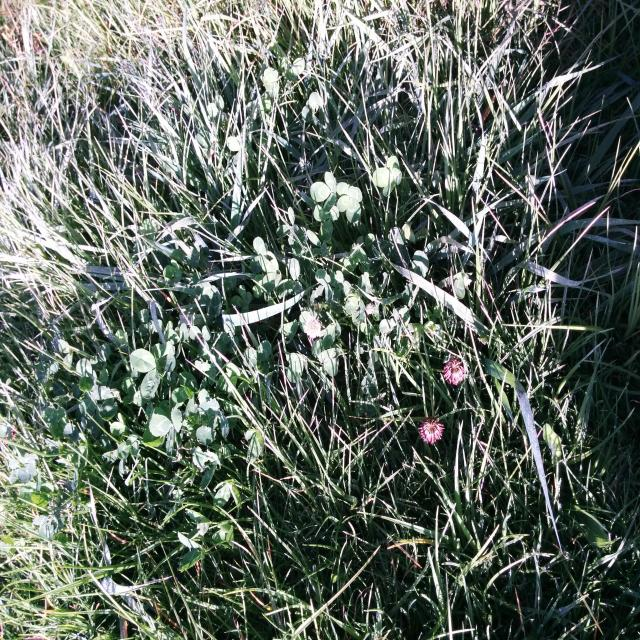Four Leaf Clover: (373, 155, 402, 196), (336, 182, 362, 223)
